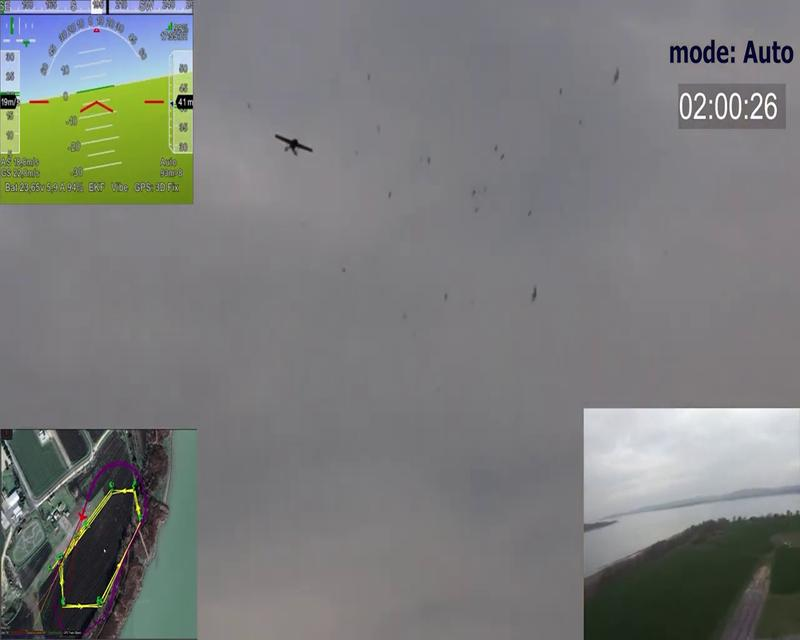UAV: (0, 0, 195, 204), (274, 131, 312, 157)
